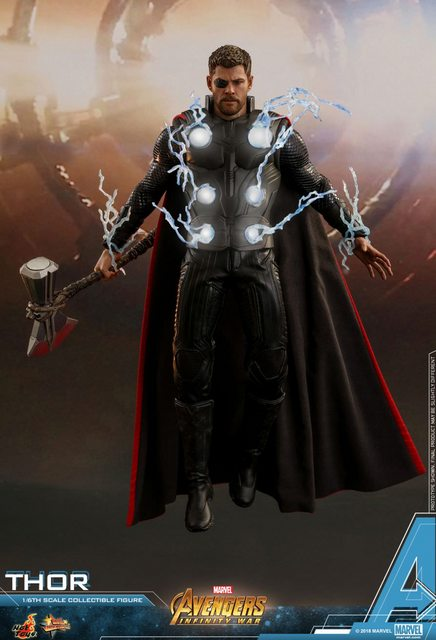THOR Hammer: (19, 244, 165, 345)
